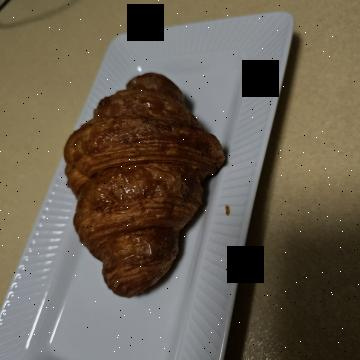croissant: (58, 136, 307, 318)
